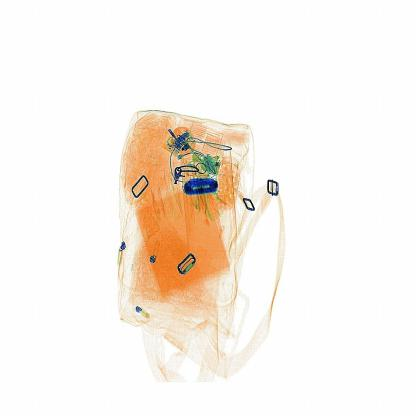scissors: (180, 171, 228, 203)
